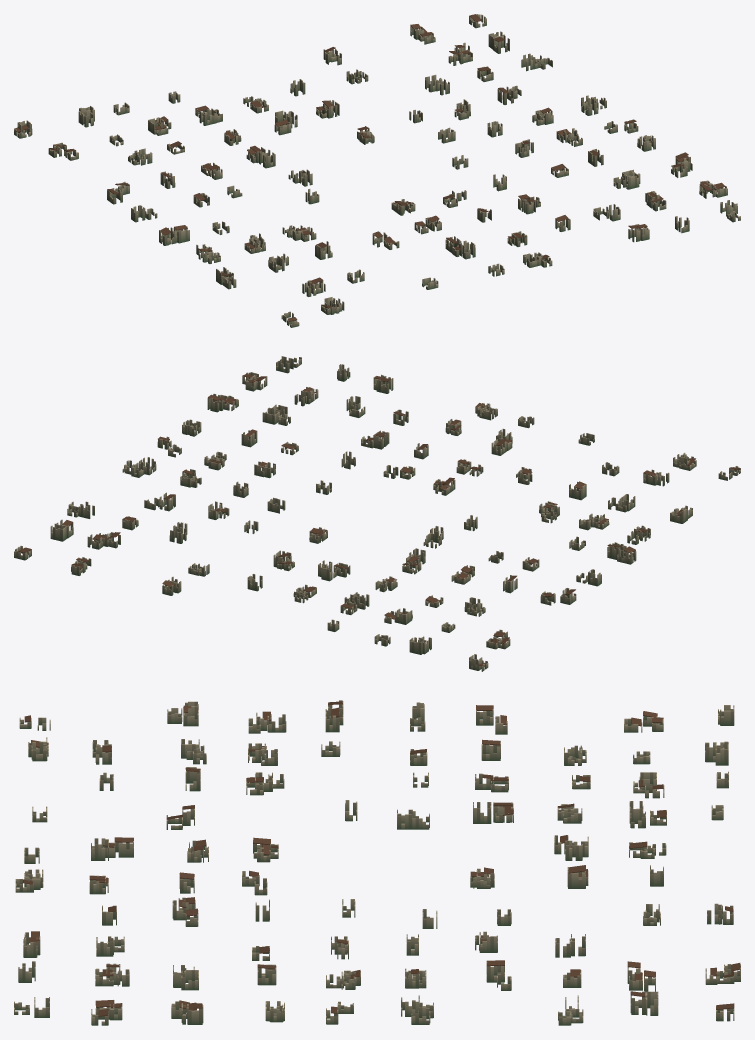
Rendered from sw_buildings.glb.
3 views of the same model, one above another, from view 1: azimuth 30°, elevation 25°; view 2: azimuth 150°, elevation 25°; view 3: azimuth 270°, elevation 25° (orthographic). The views are drawn at different scales.
Parts seen in each view (by area): view 1: geometry_0; view 2: geometry_0; view 3: geometry_0.
Boxes of the visible parts, x1,y1,x2,y2 form: geometry_0: (14, 14, 740, 327); geometry_0: (14, 356, 740, 671); geometry_0: (14, 700, 740, 1025).
Bounding box in the file's own units: 479 × 12.69 × 476.
